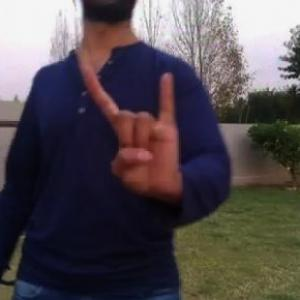takeoff-hand: (72, 41, 194, 218)
